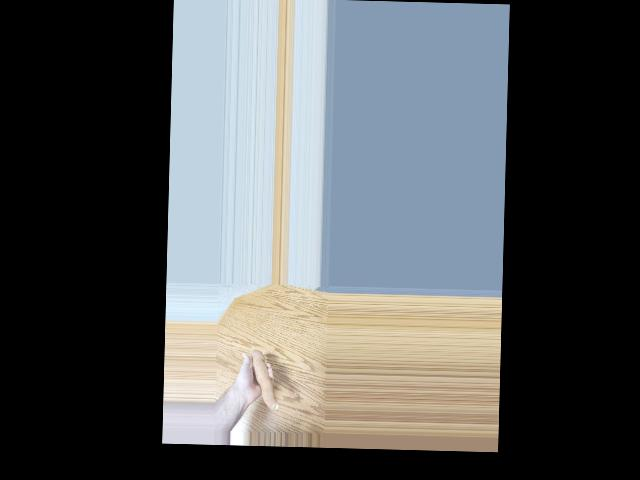sweet_potato: (249, 349, 279, 412)
